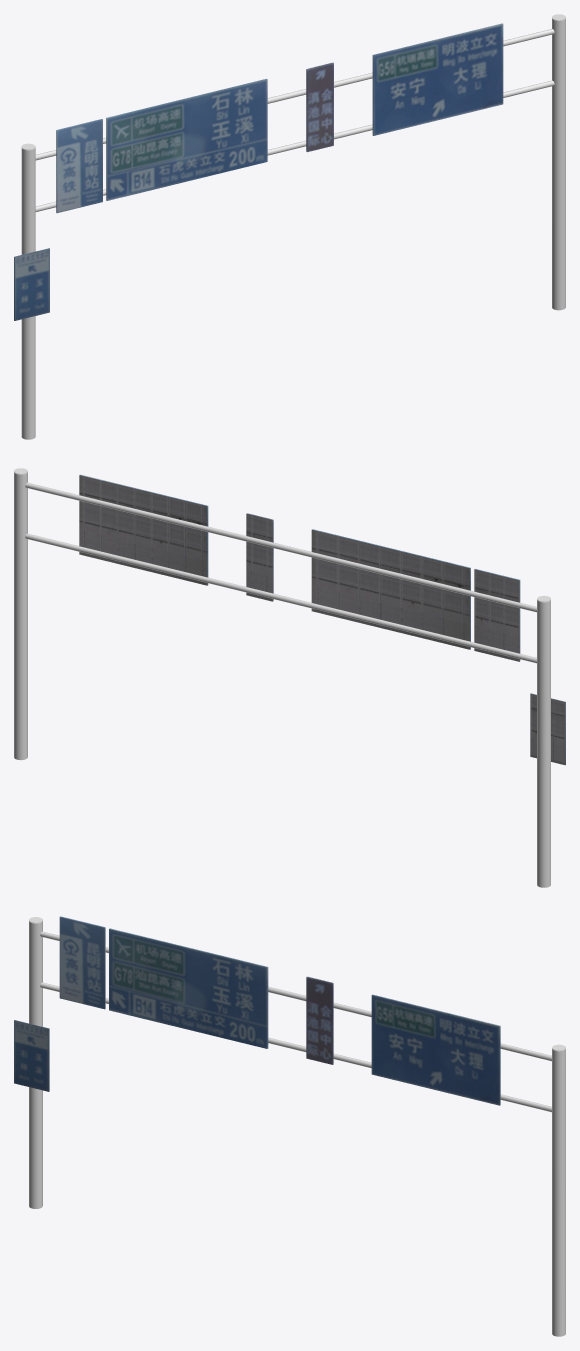
Rendered from TSX000002_low.gltf.
3 renders of one model, top to bottom at view 1: azimuth 30°, elevation 25°; view 2: azimuth 150°, elevation 25°; view 3: azimuth 330°, elevation 25°, orthographic.
Visible parts, largest first — view 1: TSX000002_low; view 2: TSX000002_low; view 3: TSX000002_low.
Boxes of the visible parts, left/top/right/bottom form: TSX000002_low: left=14, top=14, right=565, bottom=439; TSX000002_low: left=14, top=468, right=565, bottom=887; TSX000002_low: left=14, top=916, right=565, bottom=1336.
Size of the model in its own units: 14.57 by 7.56 by 0.3488.
7 materials, 6 textured.
